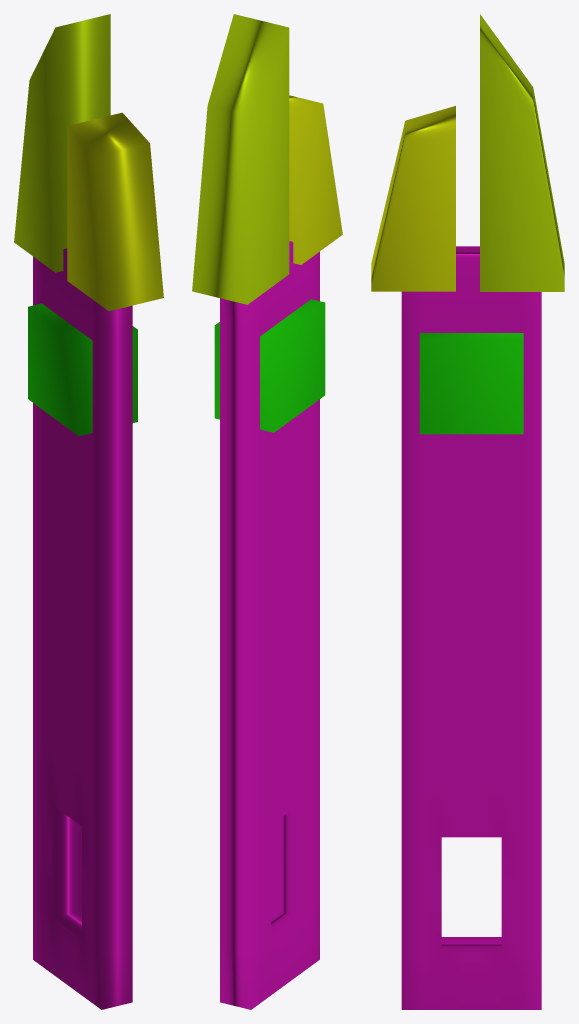
File: herramiente.fbx
The picture shows the model from 3 angles, left to right: view 1: azimuth 30°, elevation 25°; view 2: azimuth 150°, elevation 25°; view 3: azimuth 270°, elevation 25°; orthographic projection. The views are drawn at different scales.
Parts seen in each view (by area): view 1: Cube; view 2: Cube; view 3: Cube.
Boxes of the visible parts, x1,y1,x2,y2 form: Cube: (14,14,163,1009); Cube: (192,14,342,1009); Cube: (371,14,564,1009).
Size of the model in its own units: 1.34 by 0.5229 by 7.45.
